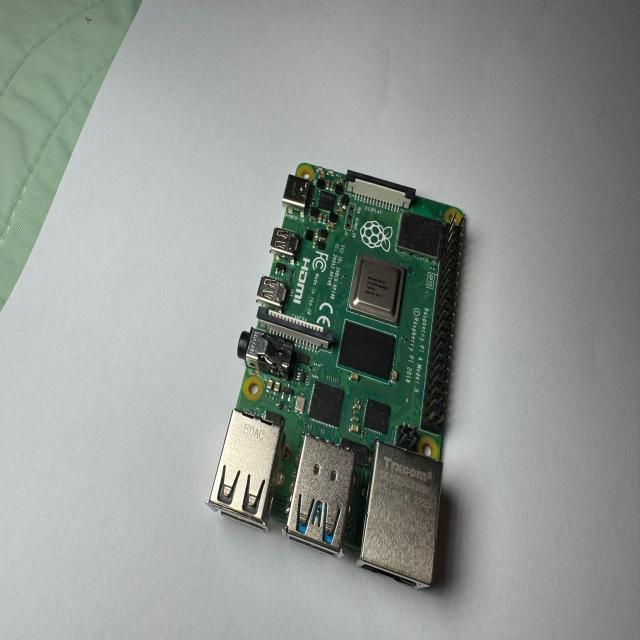CPU: (348, 256, 408, 329)
Ethernet: (359, 445, 442, 590)
GPIO: (423, 227, 466, 437)
RAM: (338, 317, 399, 383)
Raspberry: (207, 163, 467, 591)
micro-hdmi: (269, 226, 305, 262), (256, 276, 288, 304)
